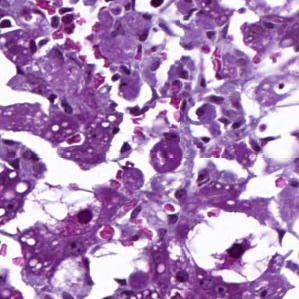inflammation: (221, 231, 259, 277)
